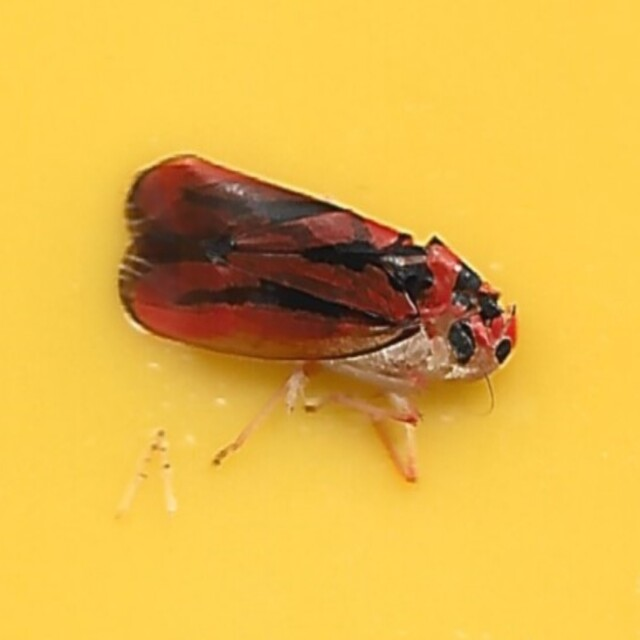Hemiptera: (117, 151, 523, 489)
